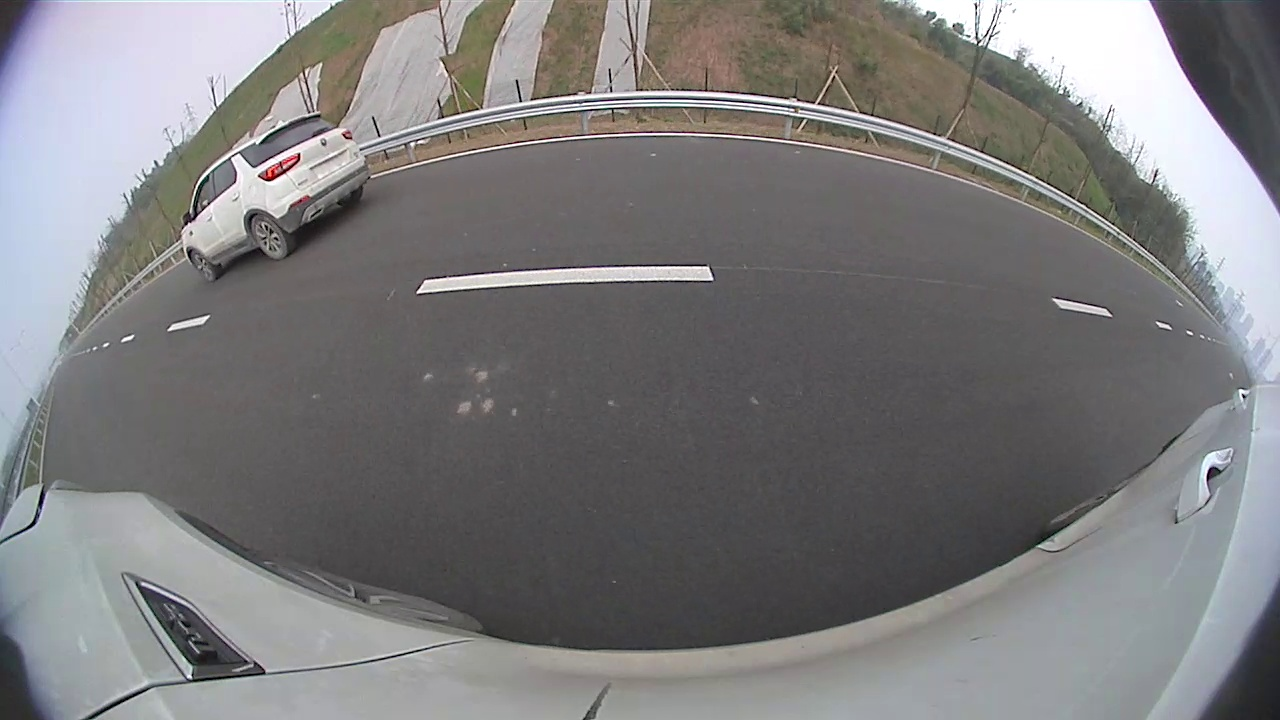car: (754, 136, 925, 233)
front: (754, 178, 777, 204)
rear: (814, 185, 843, 227)
